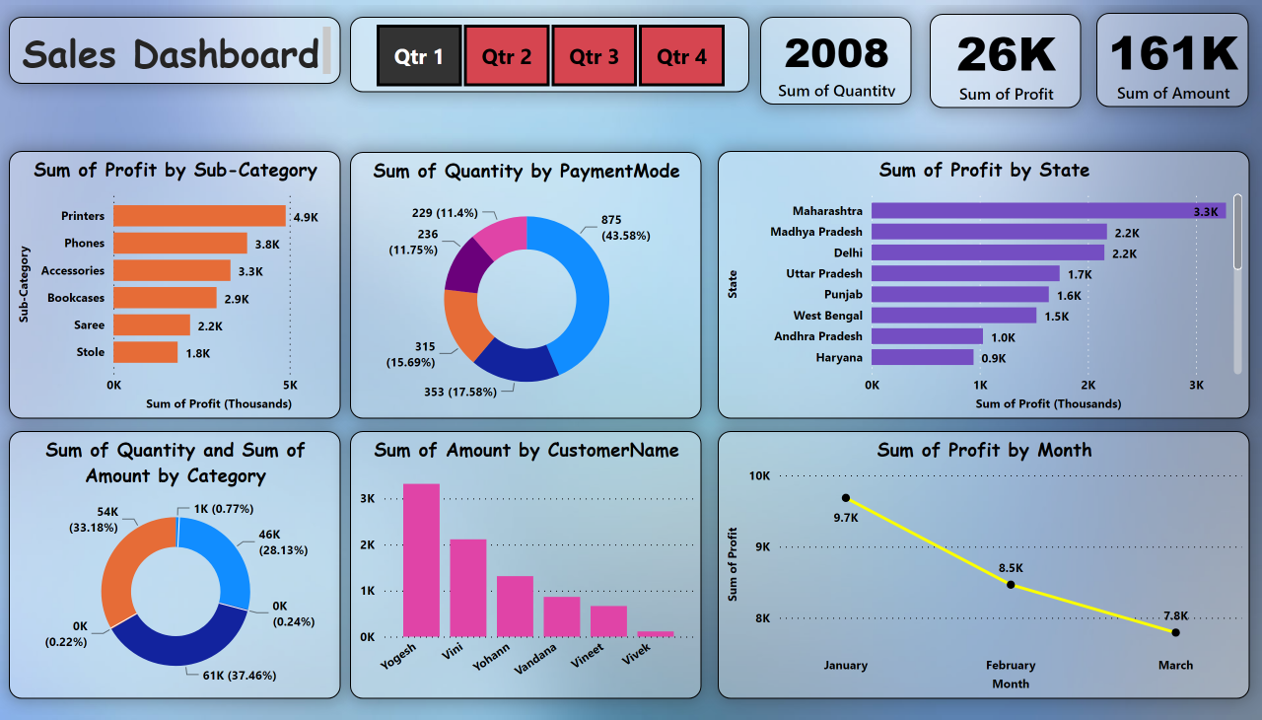

The page's visual inventory and layout, read from the dashboard file:
{"tool":"powerbi","page":{"name":"Page 1","canvas":[1280,720],"ordinal":0},"visuals":[{"type":"textbox","box":[9.4,12.1,336.3,68],"z":0},{"type":"lineChart","fields":{"Category":["Orders.Order Date.Variation.Date Hierarchy.Month"],"Y":["Sum(Details.Profit)"]},"box":[727.7,431.8,539.4,271.7],"z":1000},{"type":"barChart","fields":{"Y":["Sum(Details.Profit)"],"Category":["Orders.State"]},"box":[727.7,148,539.4,271.7],"z":2000},{"type":"pieChart","fields":{"Y":["Sum(Details.Quantity)","Sum(Details.Amount)"],"Category":["Details.Category"]},"box":[9.4,431.8,336.3,271.7],"z":3000},{"type":"donutChart","fields":{"Y":["Sum(Details.Quantity)"],"Category":["Details.PaymentMode"]},"box":[355.1,149.3,356.5,270.4],"z":4000},{"type":"card","fields":{"Values":["Sum(Details.Amount)"]},"box":[1112.4,8.1,154.7,95.5],"z":5000},{"type":"card","fields":{"Values":["Sum(Details.Profit)"]},"box":[942.9,9.4,153.3,95.5],"z":6000},{"type":"card","fields":{"Values":["Sum(Details.Quantity)"]},"box":[770.7,12.1,153.3,88.8],"z":7000},{"type":"barChart","fields":{"Y":["Sum(Details.Profit)"],"Category":["Details.Sub-Category"]},"box":[9.4,148,336.3,271.7],"z":8000},{"type":"lineStackedColumnComboChart","fields":{"Category":["Orders.CustomerName"],"Y":["Sum(Details.Amount)"]},"box":[355.1,431.8,356.5,271.7],"z":9000},{"type":"slicer","fields":{"Values":["Orders.Order Date.Variation.Date Hierarchy.Quarter"]},"box":[355.1,12.1,404.9,76.7],"z":10000}]}

Visuals, with their boxes in screenshot pixels (x1, y1, x2, y2), scaled from the page's 1280x720 canvas onto the 1262x720 screenshot:
textbox: 9/12/341/80
lineChart - Orders.Order Date.Variation.Date Hierarchy.Month x Sum(Details.Profit): 717/432/1249/704
barChart - Sum(Details.Profit) x Orders.State: 717/148/1249/420
pieChart - Sum(Details.Quantity) x Sum(Details.Amount): 9/432/341/704
donutChart - Sum(Details.Quantity) x Details.PaymentMode: 350/149/702/420
card - Sum(Details.Amount): 1097/8/1249/104
card - Sum(Details.Profit): 930/9/1081/105
card - Sum(Details.Quantity): 760/12/911/101
barChart - Sum(Details.Profit) x Details.Sub-Category: 9/148/341/420
lineStackedColumnComboChart - Orders.CustomerName x Sum(Details.Amount): 350/432/702/704
slicer - Orders.Order Date.Variation.Date Hierarchy.Quarter: 350/12/749/89
